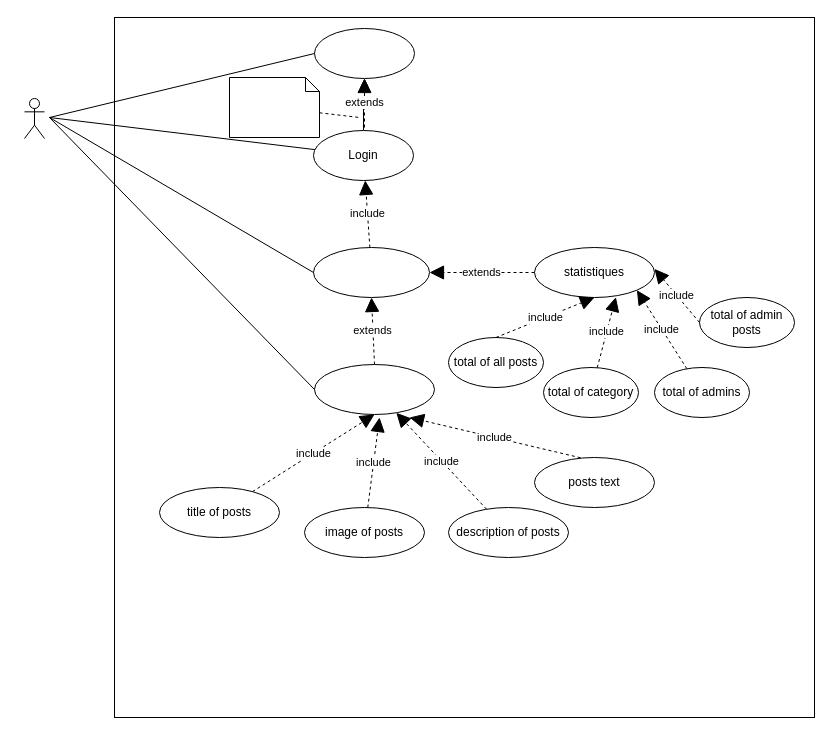
Image size: 832x735. Some labels were removed from this diagram. Each missing label, with the centre of its shape:
"Add an post" belongs at pixel 374 389.
"Admin" belongs at pixel 34 118.
"dashboard" belongs at pixel 371 272.
"if the information of admin are correct" belongs at pixel 274 107.
"Register" belongs at pixel 364 53.
